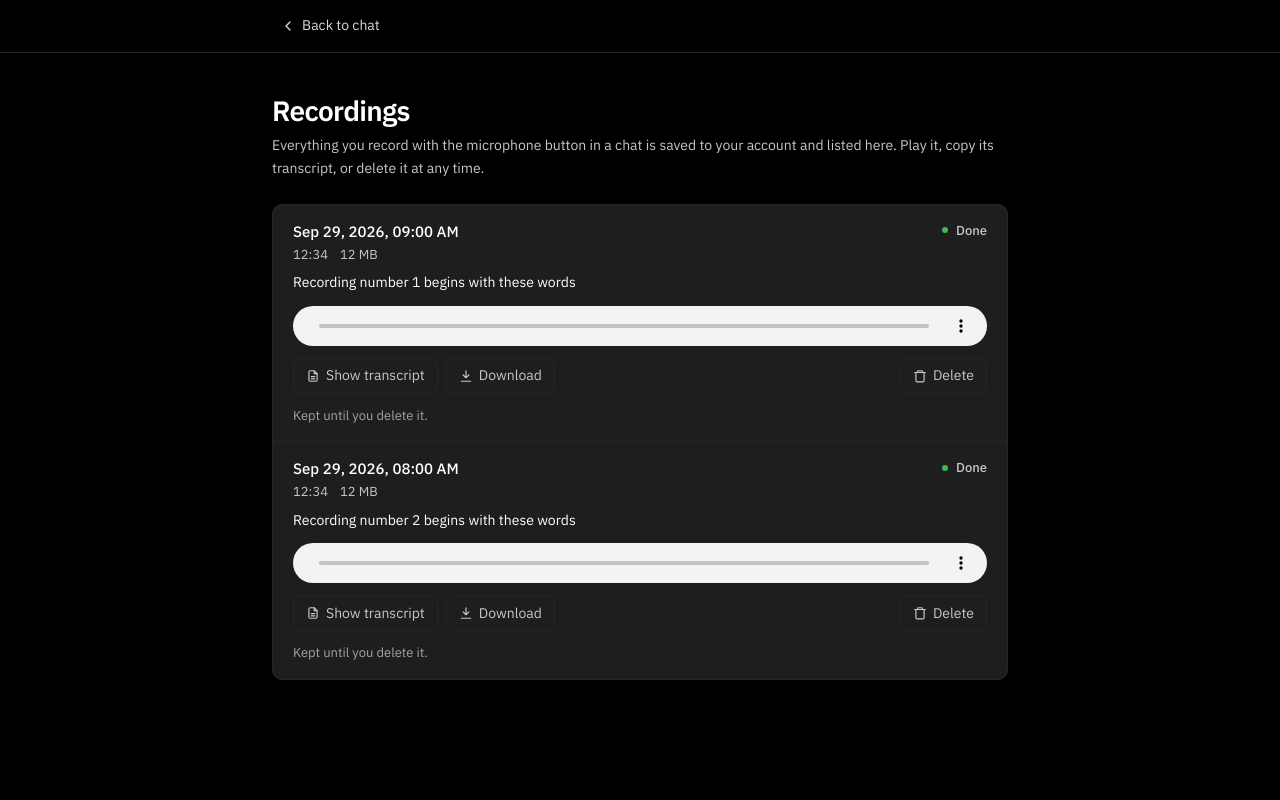
Test case: deleting › reports a server_error failure as NOT deleted and keeps the row
The image size is (1280, 800).
Click the button named "Delete the recording from". click: click(943, 376)
box: x1=900 y1=358 x2=987 y2=394
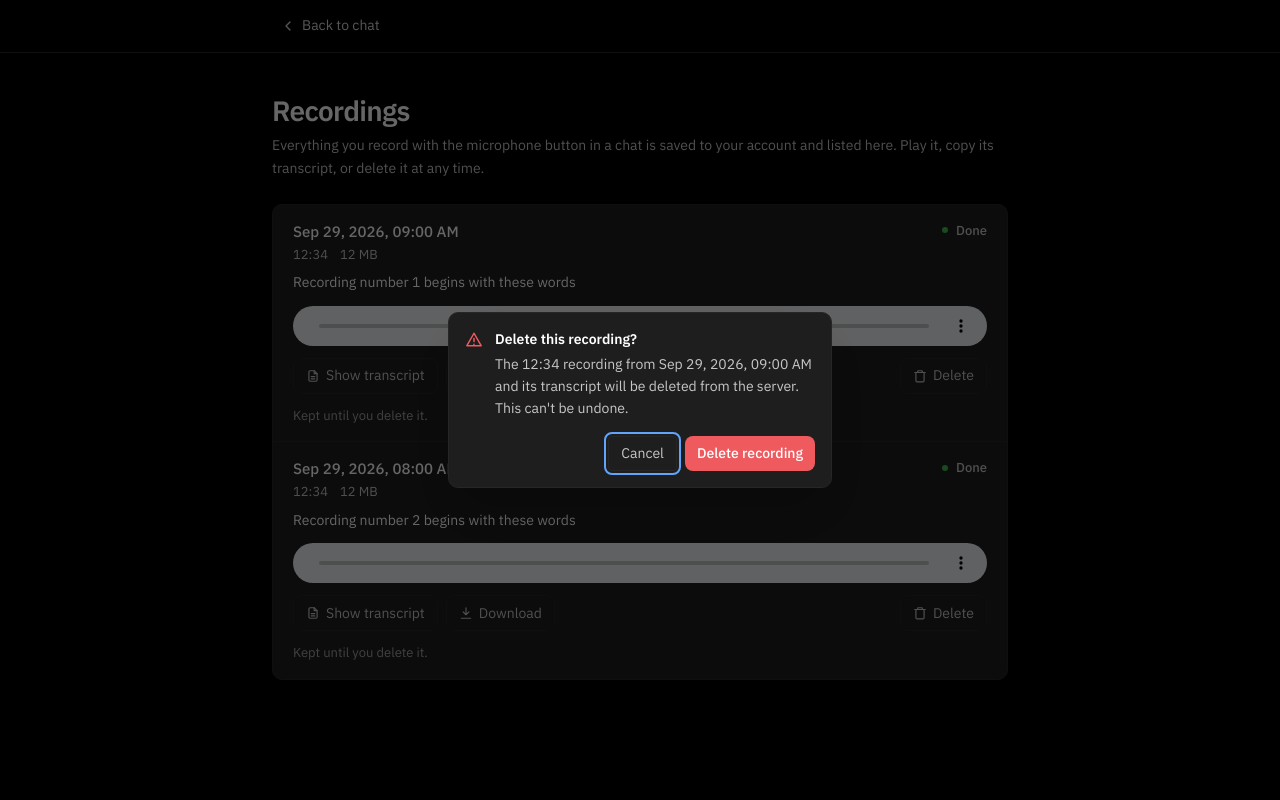
Click the button "Delete recording". click: click(750, 453)
box: x1=685 y1=436 x2=815 y2=471
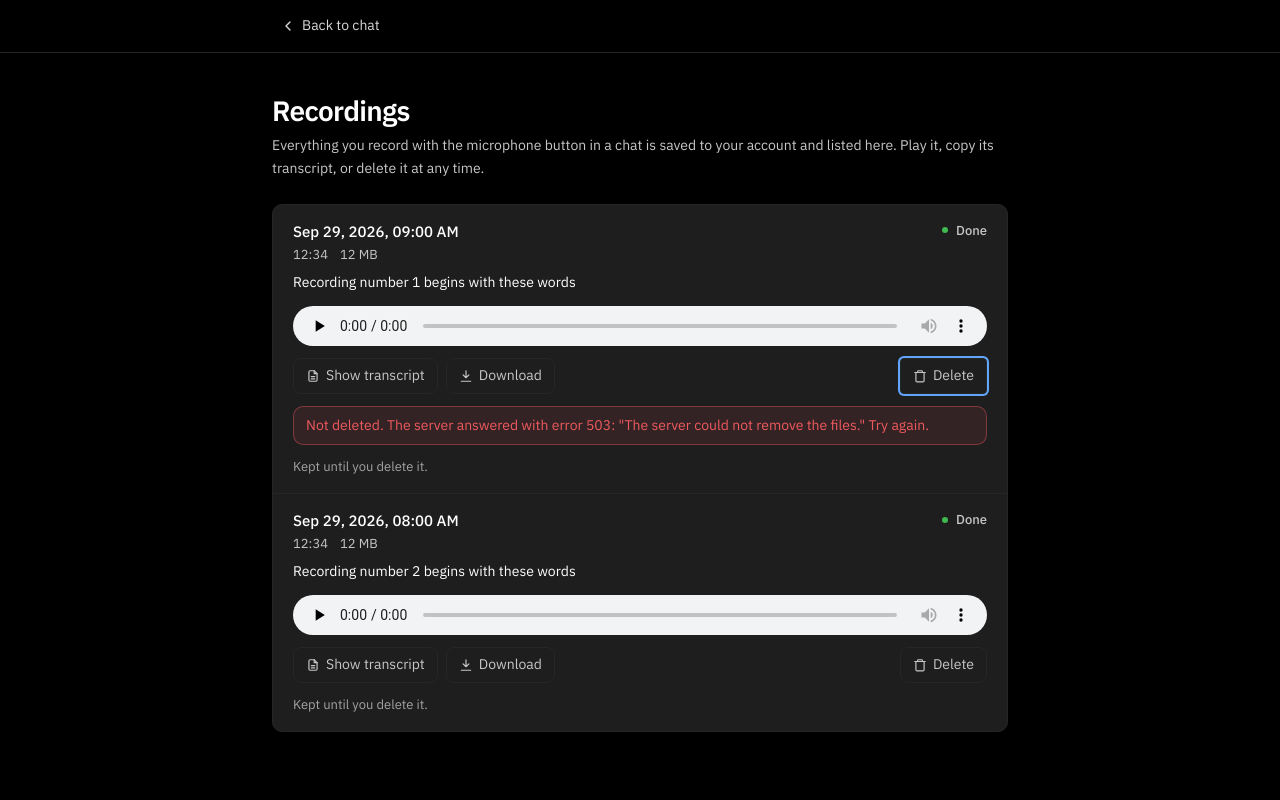
Check: the number of list items is 2, box x1=273 y1=204 x2=1007 y2=493; x1=273 y1=493 x2=1007 y2=731
Check: the message shows "Not deleted. The server answered with error 503: \"The server could not remove the files.\" Try again.", box x1=306 y1=416 x2=929 y2=434
Click the button named "Delete the recording from". click: click(943, 376)
box: x1=900 y1=358 x2=987 y2=394
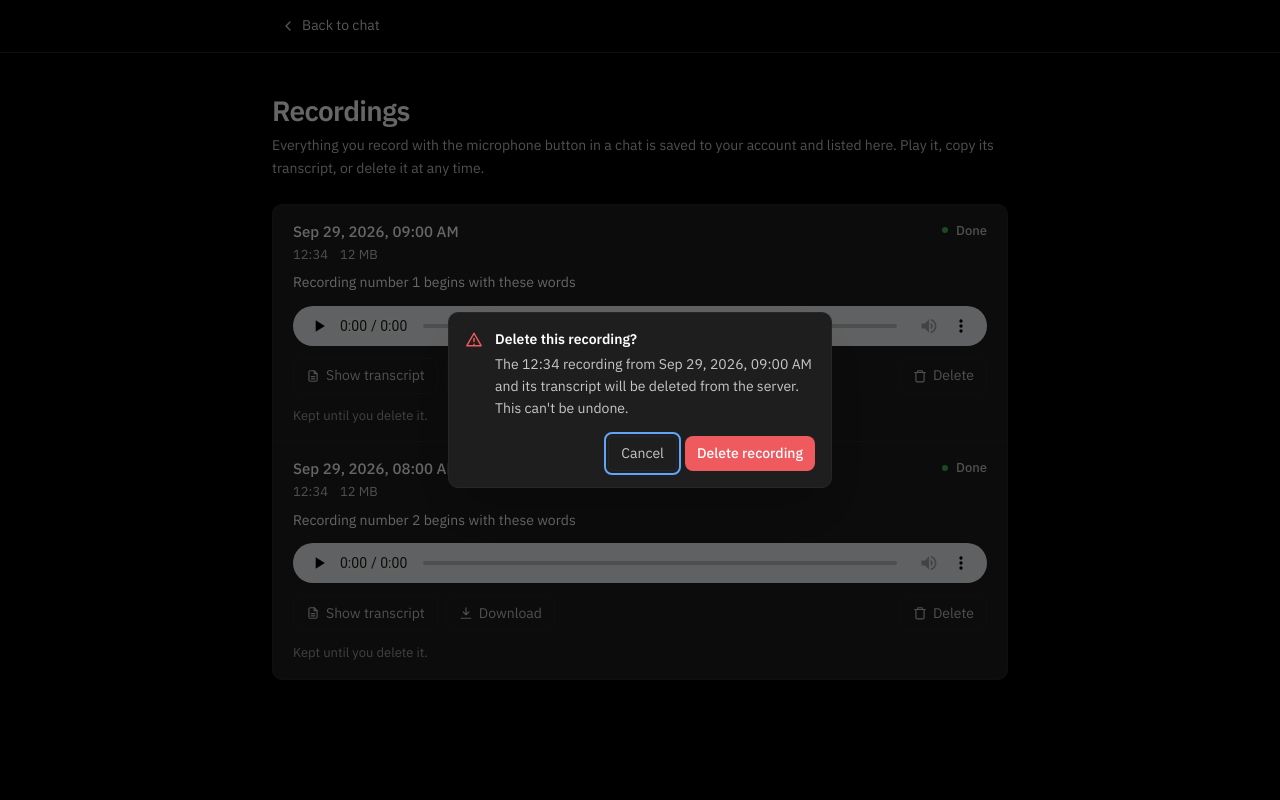
Click the button "Delete recording". click: click(750, 453)
box: x1=685 y1=436 x2=815 y2=471
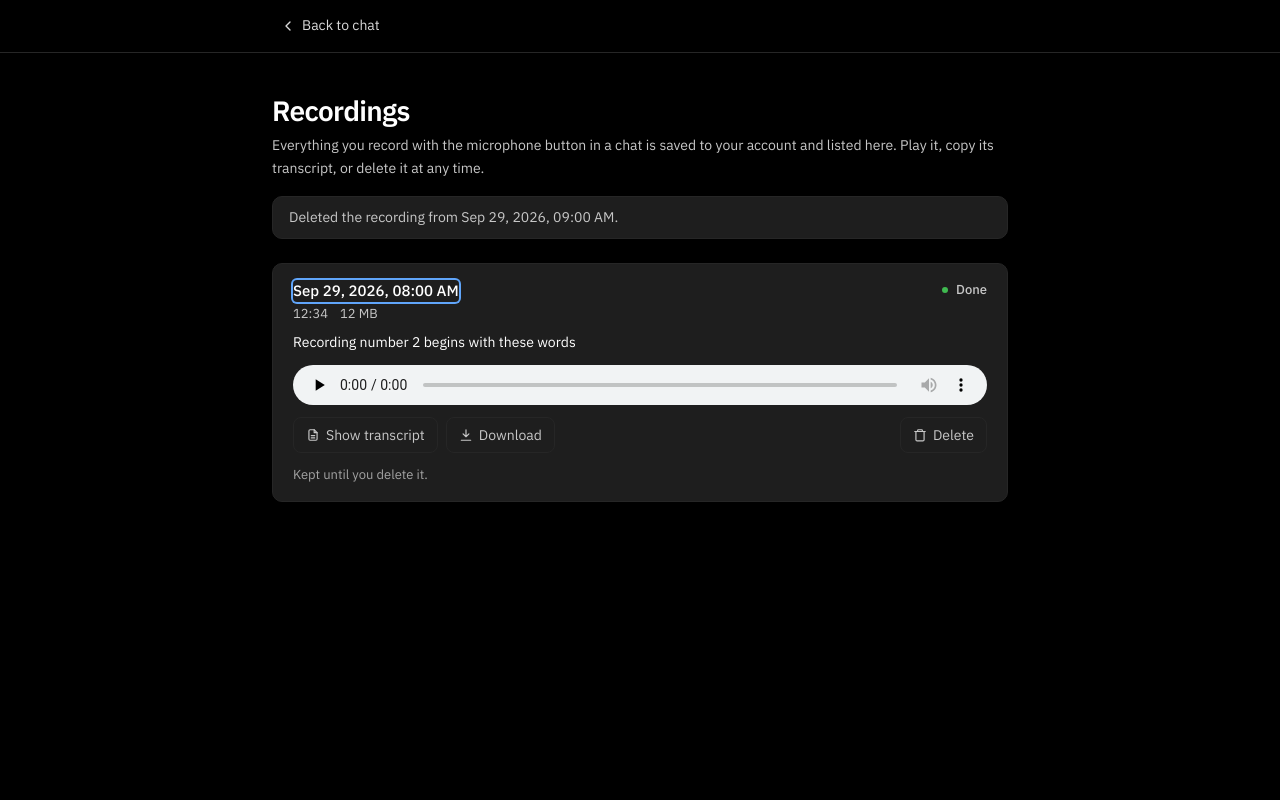
Check: the number of list items is 1, box x1=273 y1=264 x2=1007 y2=501
